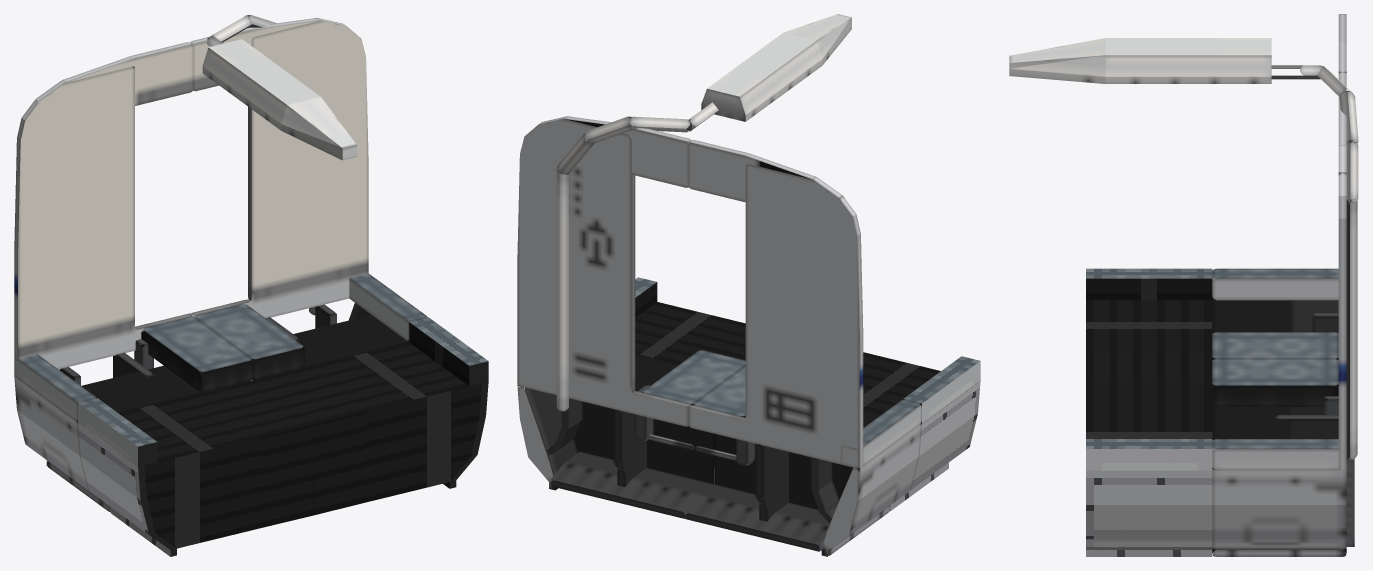
The model's file is body_horizontal_wired.obj.
The picture shows the model from 3 angles, left to right: view 1: azimuth 30°, elevation 25°; view 2: azimuth 150°, elevation 25°; view 3: azimuth 270°, elevation 25°; orthographic projection. The views are drawn at different scales.
Visible parts, largest first — view 1: 端面1, 裙板-仪器舱靠近端面R, 裙板-仪器舱靠近端面L, 裙板-仪器舱R, 地板-中间, mesh, 裙板-仪器舱L, 端面2, 防雪风挡骨架, 防雪风挡骨架2; view 2: 端面1, mesh, 裙板-仪器舱R, 防雪风挡, 裙板-仪器舱L, 裙板-仪器舱靠近端面R, 端面2, 裙板-仪器舱靠近端面L, 地板-中间, 防雪风挡骨架, 防雪风挡骨架2, 车钩架; view 3: 裙板-仪器舱靠近端面L, 裙板-仪器舱L, mesh, 裙板-仪器舱靠近端面R, 地板-中间, 裙板-仪器舱R, 端面1, 防雪风挡骨架, 端面2, 防雪风挡, 防雪风挡骨架2.
Part boxes in pixels (x1,y1,x2,y2): 端面1: [14, 18, 368, 378]; 裙板-仪器舱靠近端面R: [78, 380, 313, 556]; 裙板-仪器舱靠近端面L: [254, 317, 488, 515]; 裙板-仪器舱R: [14, 354, 252, 511]; 地板-中间: [141, 304, 305, 392]; mesh: [202, 15, 356, 315]; 裙板-仪器舱L: [251, 273, 427, 380]; 端面2: [63, 18, 319, 105]; 防雪风挡骨架: [113, 317, 299, 377]; 防雪风挡骨架2: [59, 304, 336, 385]; 端面1: [517, 116, 863, 468]; mesh: [556, 14, 851, 411]; 裙板-仪器舱R: [714, 400, 921, 556]; 防雪风挡: [550, 451, 829, 551]; 裙板-仪器舱L: [517, 353, 714, 490]; 裙板-仪器舱靠近端面R: [863, 352, 980, 510]; 端面2: [565, 116, 815, 202]; 裙板-仪器舱靠近端面L: [635, 277, 745, 364]; 地板-中间: [643, 350, 745, 417]; 防雪风挡骨架: [613, 384, 788, 521]; 防雪风挡骨架2: [547, 398, 839, 523]; 车钩架: [634, 414, 755, 465]; 裙板-仪器舱靠近端面L: [1086, 380, 1212, 556]; 裙板-仪器舱L: [1212, 405, 1346, 556]; mesh: [1009, 38, 1358, 459]; 裙板-仪器舱靠近端面R: [1086, 268, 1212, 380]; 地板-中间: [1212, 332, 1338, 406]; 裙板-仪器舱R: [1212, 268, 1338, 333]; 端面1: [1338, 14, 1346, 470]; 防雪风挡骨架: [1276, 407, 1338, 438]; 端面2: [1338, 14, 1346, 145]; 防雪风挡: [1346, 459, 1354, 546]; 防雪风挡骨架2: [1312, 313, 1338, 333].
Bounding box in the file's own units: 3.38 × 3.81 × 2.76.
